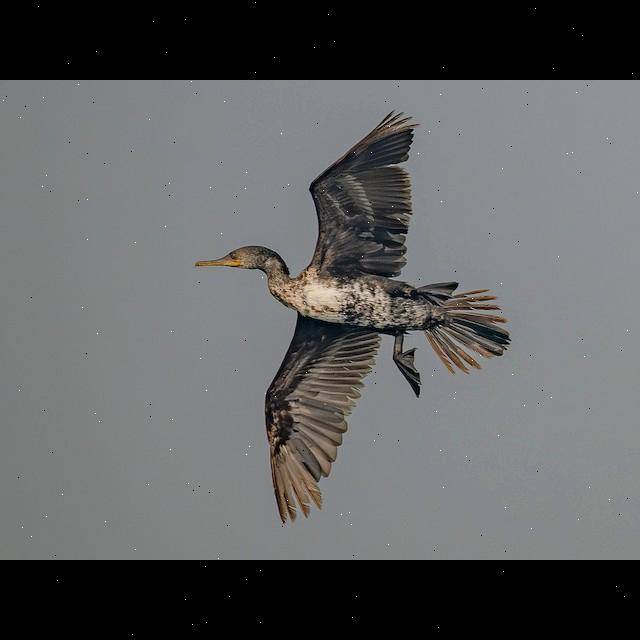cormorant: (182, 110, 514, 530)
